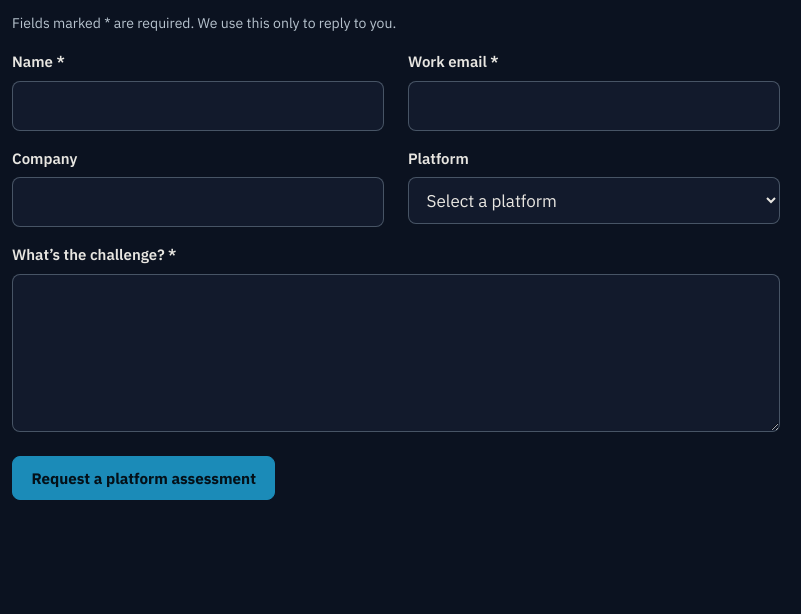
Test case: Contact form › includes access_key when set and shows an error state when the endpoint fails
Type "Dana Ruiz" into the field labelled "Name *" at coordinates (198, 106), box x1=12 y1=81 x2=384 y2=131
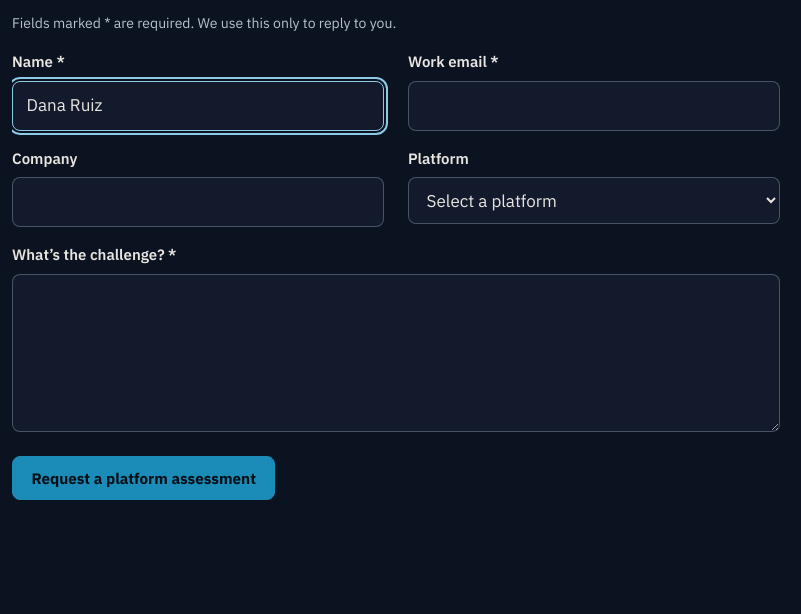
Type "dana@example.com" into the field labelled "Work email *" at coordinates (594, 106), box x1=408 y1=81 x2=780 y2=131
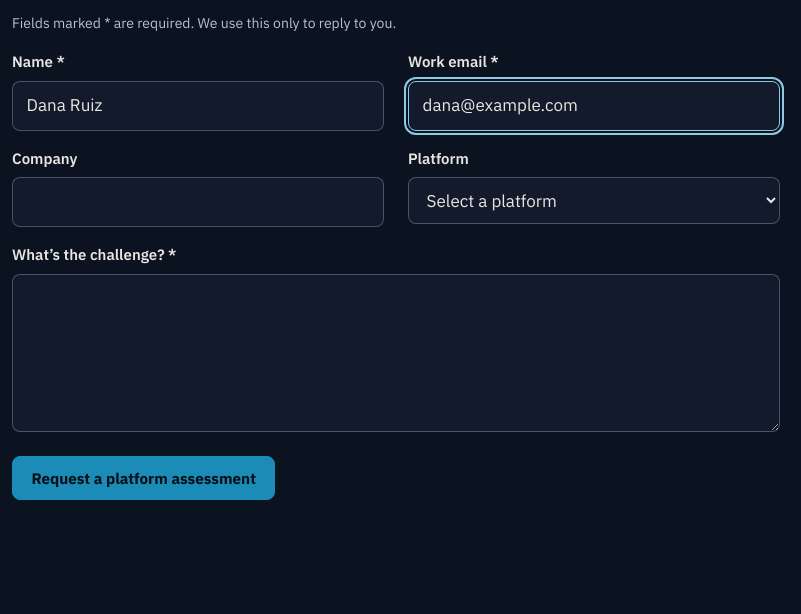
Type "Acme Health" into the field labelled "Company" at coordinates (198, 202), box x1=12 y1=177 x2=384 y2=227
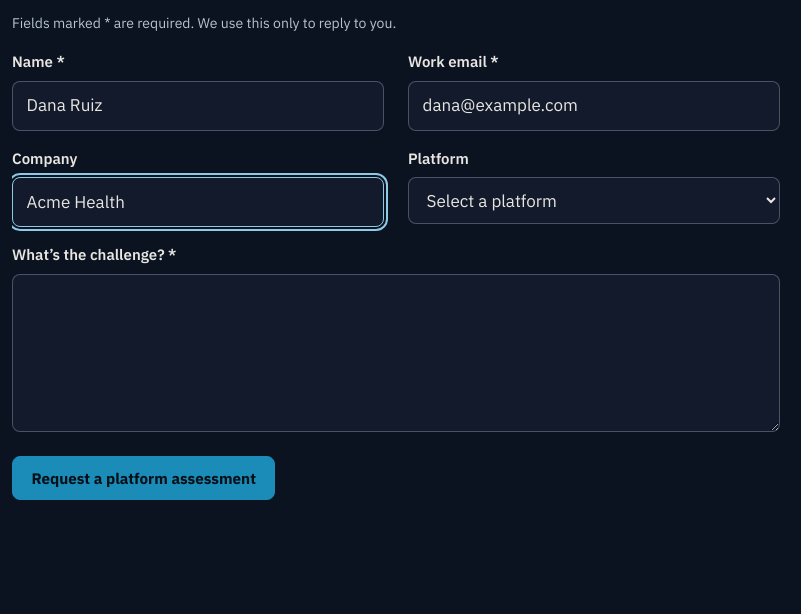
Select "Amazon Connect" in the dropdown labelled "Platform" at coordinates (594, 200), box x1=408 y1=177 x2=780 y2=224
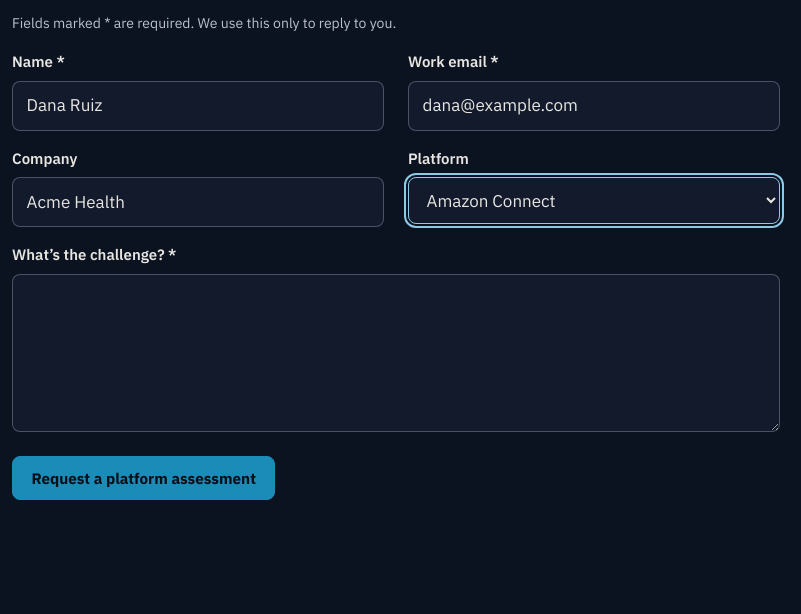
Type "Cutover in March & IVR rework" into the text box labelled "What’s the challenge? *" at coordinates (396, 353), box x1=12 y1=274 x2=780 y2=432
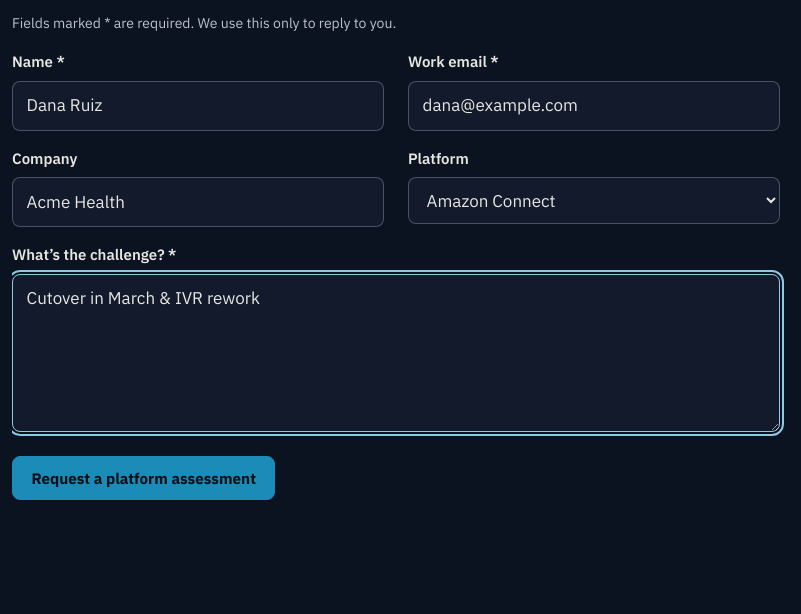
Click the button "Request a platform assessment" at coordinates (144, 478), box x1=12 y1=456 x2=275 y2=500
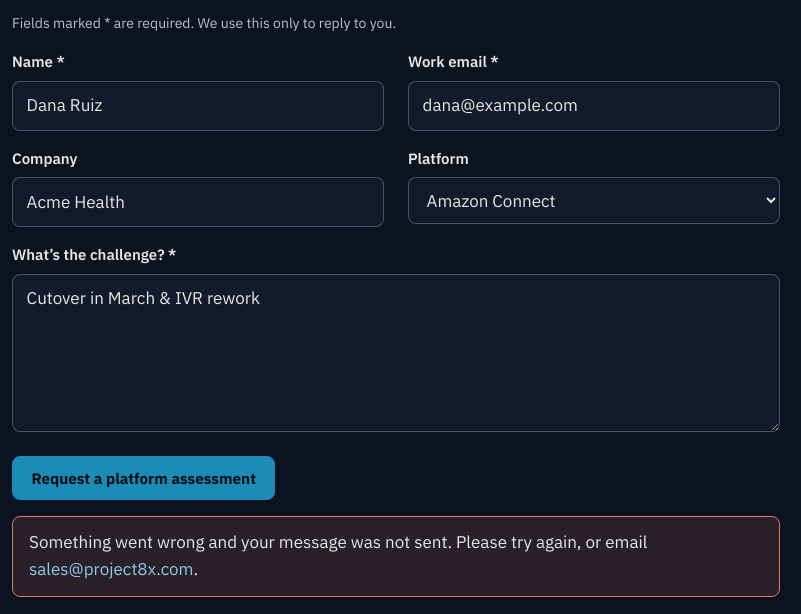
Expected: the message shows "was not sent", x1=29 y1=531 x2=647 y2=553
